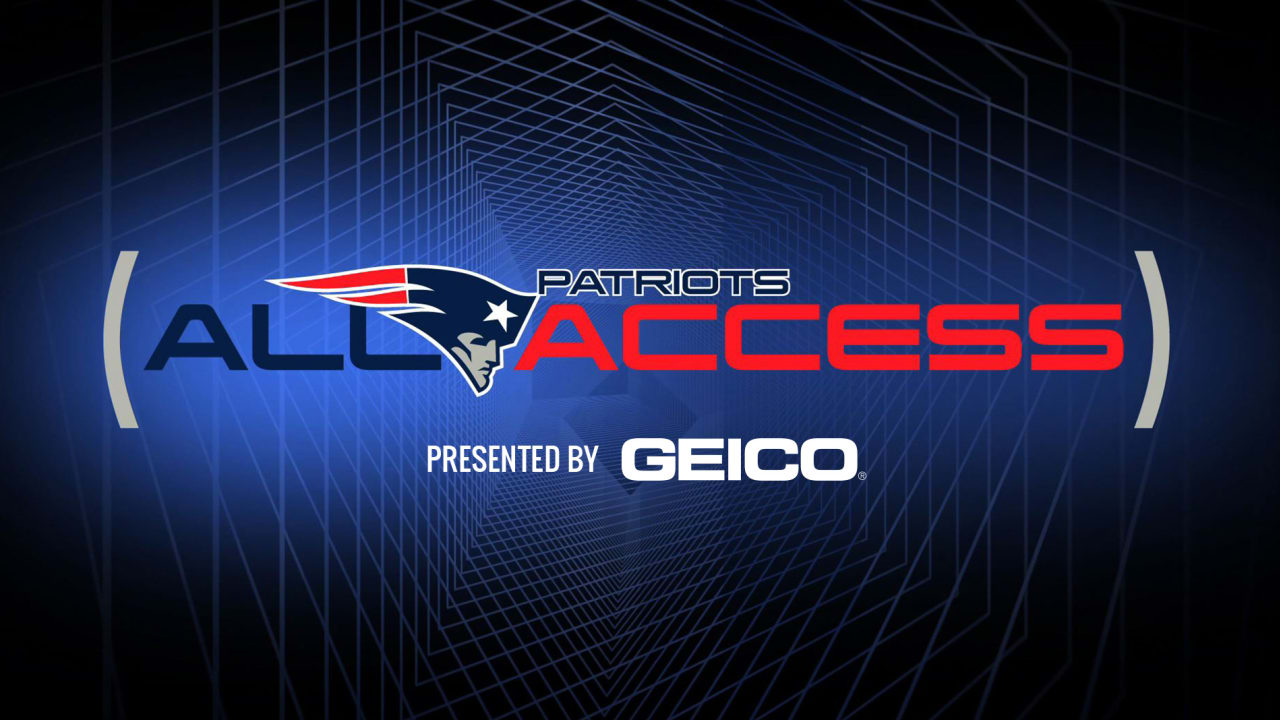geico: (620, 430, 887, 487)
